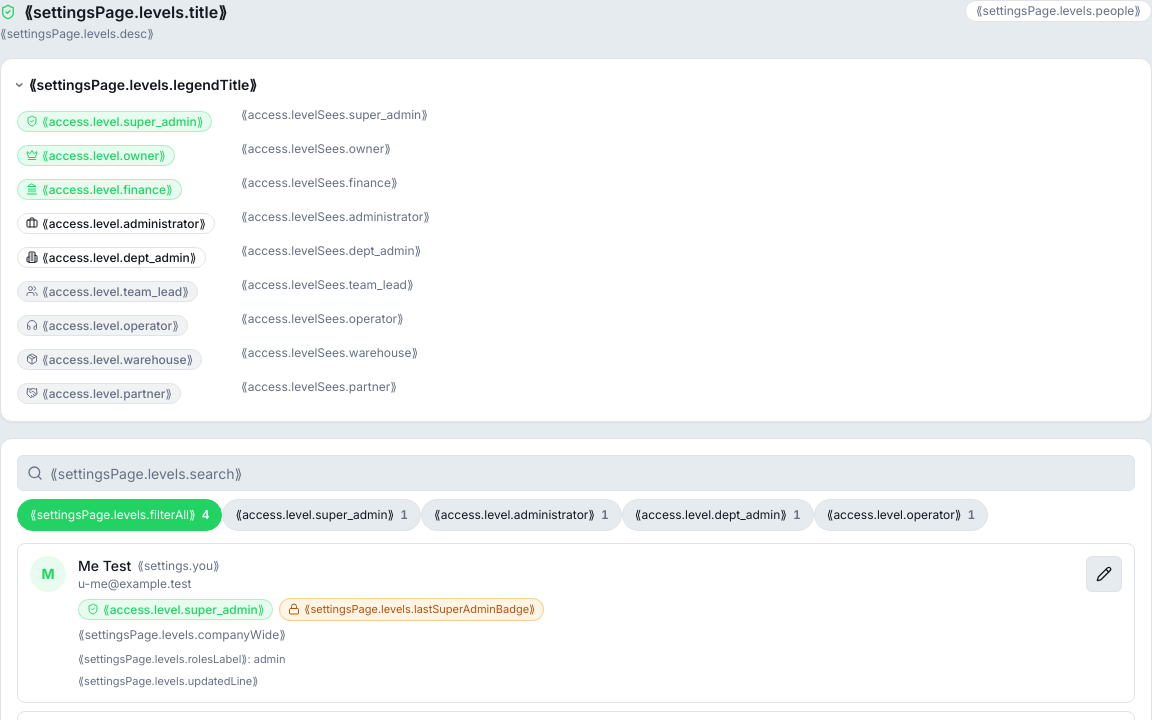
Test: Settings → Пристап и улоги › the last super admin: the level is locked and said so
Step 1. Click the button named "⟪settingsPage.levels.editAria⟫" → (1104,574), box [1086, 556, 1122, 592]
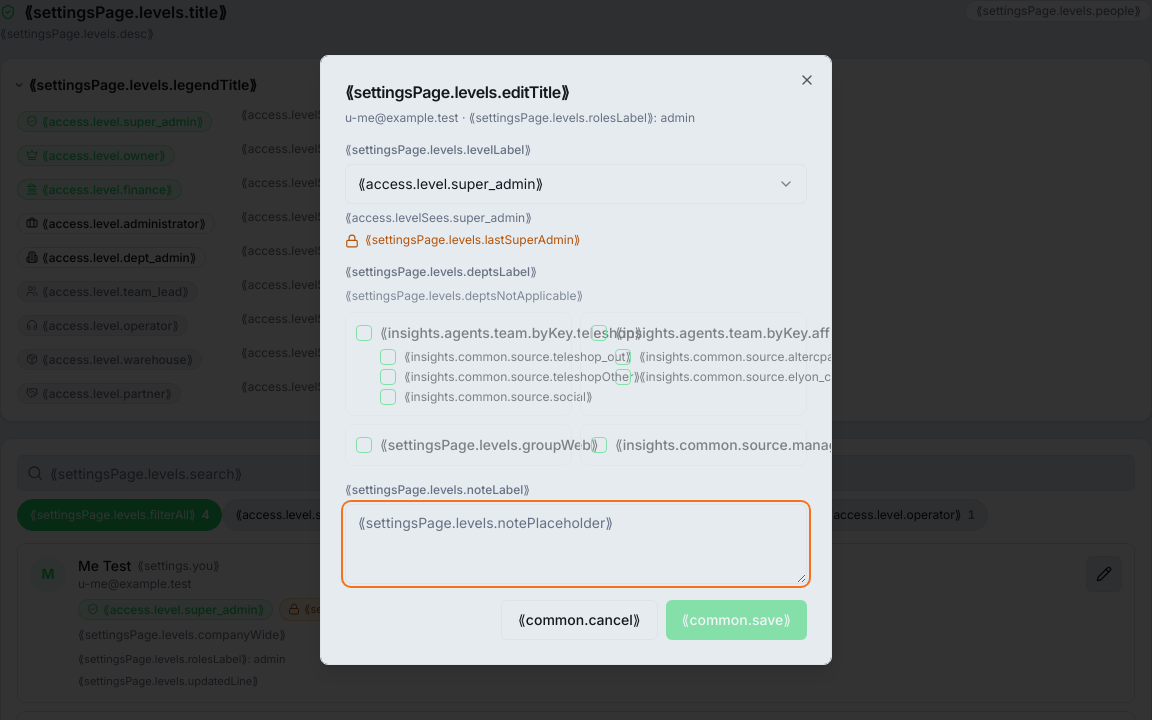
Check: the dropdown is disabled, box [345, 164, 807, 204]
